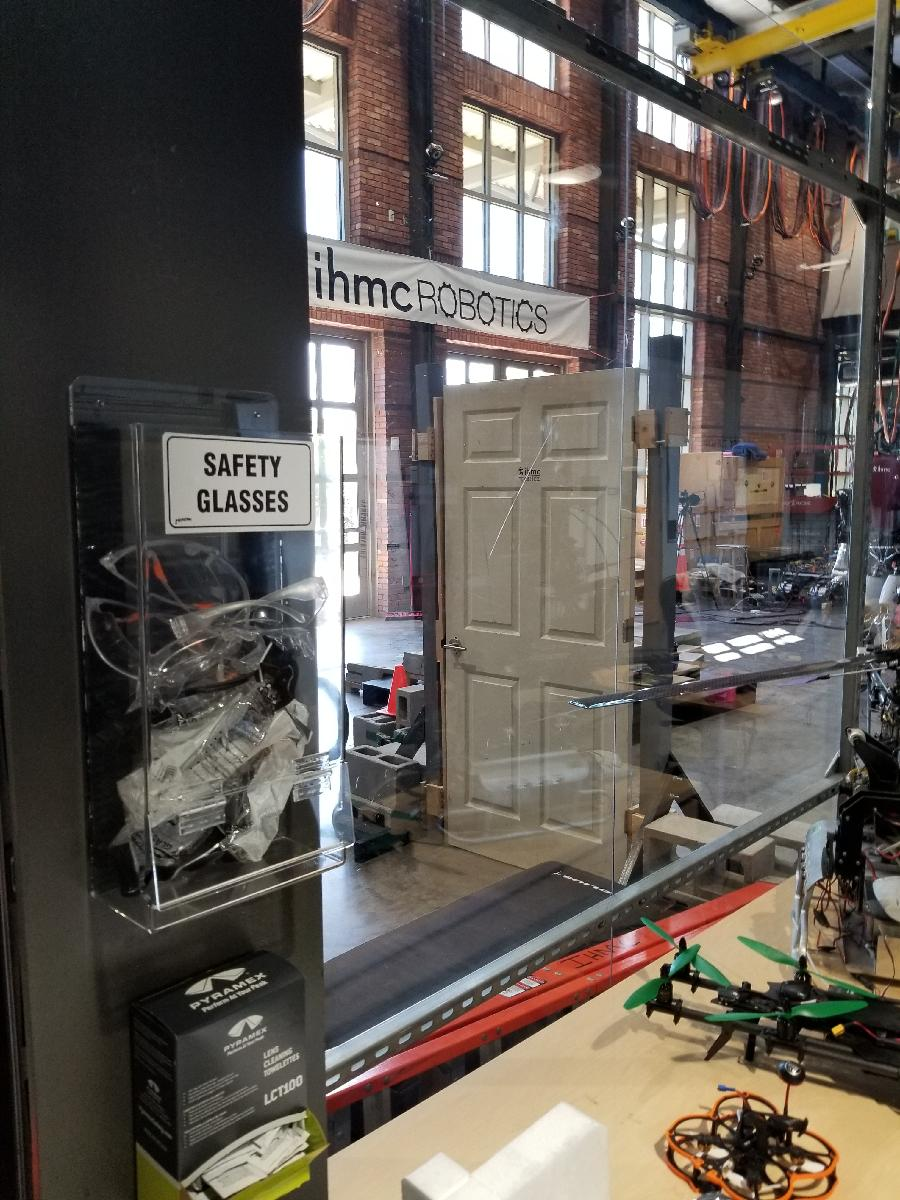door: (440, 366, 642, 909)
doorHandle: (441, 641, 474, 659)
